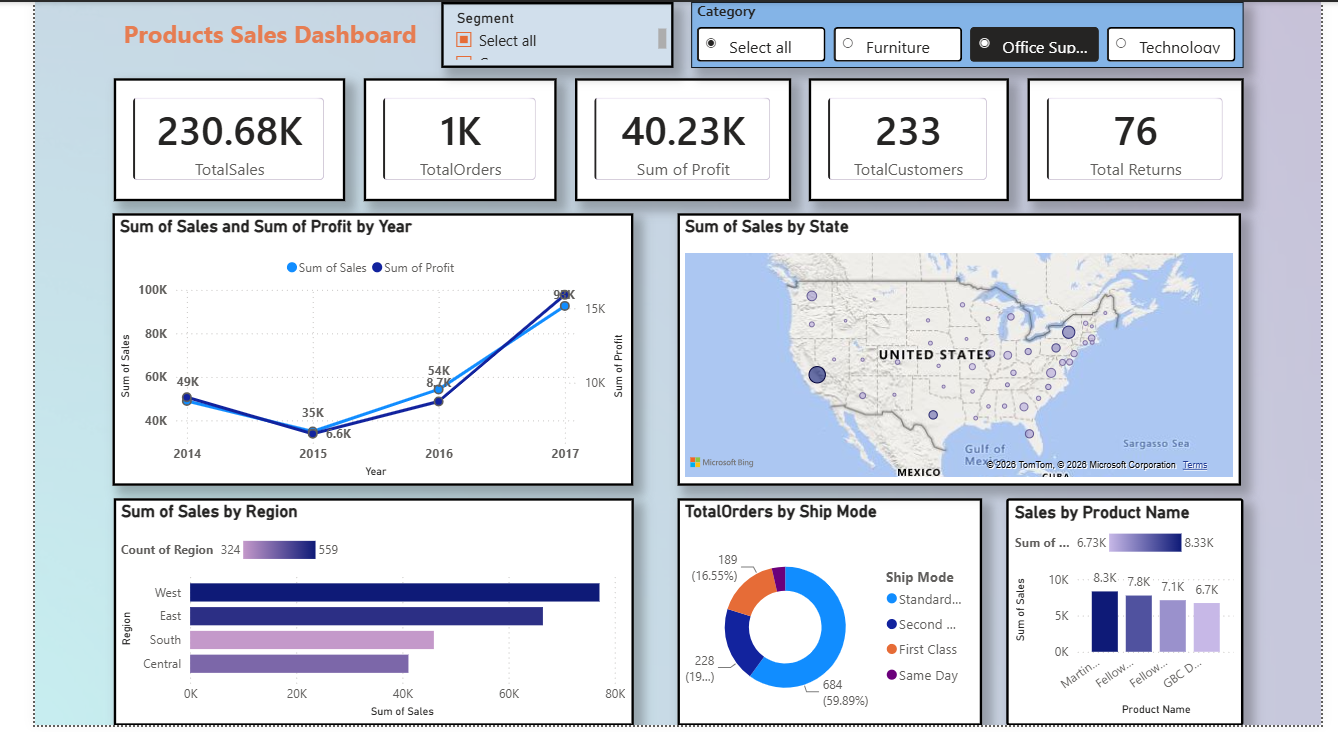

The dashboard page shown, as its layout file describes it:
{"tool":"powerbi","page":{"name":"Dashboard","canvas":[1280,720],"ordinal":1},"visuals":[{"type":"cardVisual","fields":{"Data":["Orders.TotalSales"]},"box":[78.8,76.1,230.5,122.1],"z":7000},{"type":"cardVisual","fields":{"Data":["Sum(Orders.Profit)"]},"box":[537.2,76.1,215.4,122.1],"z":8000},{"type":"cardVisual","fields":{"Data":["Orders.TotalOrders"]},"box":[327.2,76.1,192.1,122.1],"z":9000},{"type":"cardVisual","fields":{"Data":["Orders.TotalCustomers"]},"box":[770.4,76.1,199,122.1],"z":10000},{"type":"cardVisual","fields":{"Data":["Orders.TotalReturn"]},"box":[987.2,76.1,215.4,122.1],"z":11000},{"type":"lineChart","fields":{"Category":["Orders (2).Order Date.Variation.Date Hierarchy.Year","Orders (2).Order Date.Variation.Date Hierarchy.Quarter","Orders (2).Order Date.Variation.Date Hierarchy.Month","Orders (2).Order Date.Variation.Date Hierarchy.Day"],"Y":["Sum(Orders (2).Sales)"],"Y2":["Sum(Orders (2).Profit)"]},"box":[77.1,210.2,518.7,271.2],"z":12000},{"type":"barChart","fields":{"Category":["Orders (2).Region"],"Y":["Sum(Orders (2).Sales)"]},"box":[78.2,494,517.3,226.4],"z":13000},{"type":"donutChart","fields":{"Y":["Orders.TotalOrders"],"Category":["Orders.Ship Mode"]},"box":[639.5,494,303,226],"z":14000},{"type":"map","fields":{"Category":["Orders (2).State"],"Size":["Sum(Orders (2).Sales)"]},"box":[639.4,210.2,561,271.2],"z":15000},{"type":"slicer","fields":{"Values":["Orders (2).City","Orders (2).Category","Orders (2).Segment"]},"box":[967.4,494,233.3,226.4],"z":16000},{"type":"advancedSlicerVisual","fields":{"Values":["Orders (2).Category"]},"box":[653.1,0,549.8,65.9],"z":16001},{"type":"slicer","fields":{"Values":["Orders (2).Segment"]},"box":[404.3,0,231.4,65.9],"z":16002},{"type":"columnChart","title":"Sales by Product Name","fields":{"Y":["Sum(Orders (2).Sales)"],"Category":["Orders (2).Product Name"]},"box":[966.6,493.9,236.4,226.4],"z":16003},{"type":"textbox","box":[77.1,10,313.5,56],"z":16004}]}

Visuals, with their boxes in screenshot pixels (x1, y1, x2, y2), scaled from the page's 1280x720 canvas onto the 1338x732 screenshot:
cardVisual - Orders.TotalSales: (82, 77, 323, 202)
cardVisual - Sum(Orders.Profit): (562, 77, 787, 202)
cardVisual - Orders.TotalOrders: (342, 77, 543, 202)
cardVisual - Orders.TotalCustomers: (805, 77, 1013, 202)
cardVisual - Orders.TotalReturn: (1032, 77, 1257, 202)
lineChart - Orders (2).Order Date.Variation.Date Hierarchy.Year x Orders (2).Order Date.Variation.Date Hierarchy.Quarter: (81, 214, 623, 489)
barChart - Orders (2).Region x Sum(Orders (2).Sales): (82, 502, 622, 731)
donutChart - Orders.TotalOrders x Orders.Ship Mode: (668, 502, 985, 731)
map - Orders (2).State x Sum(Orders (2).Sales): (668, 214, 1255, 489)
slicer - Orders (2).City x Orders (2).Category: (1011, 502, 1255, 731)
advancedSlicerVisual - Orders (2).Category: (683, 0, 1257, 67)
slicer - Orders (2).Segment: (423, 0, 665, 67)
"Sales by Product Name" columnChart: (1010, 502, 1258, 731)
textbox: (81, 10, 408, 67)
